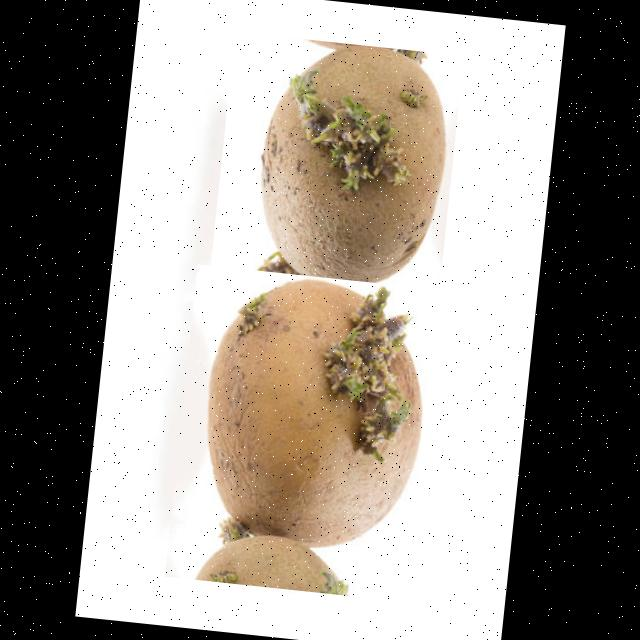Sprouted potato: (164, 263, 470, 604), (204, 30, 463, 338)
